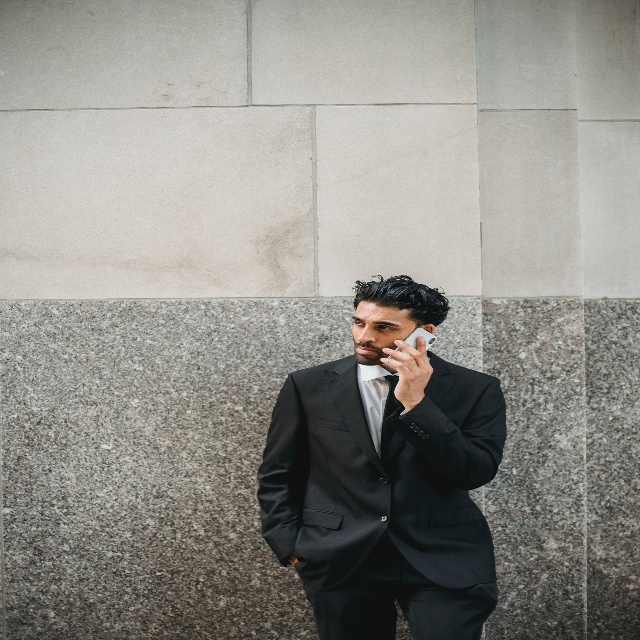Sin_guantes: (381, 333, 435, 408)
